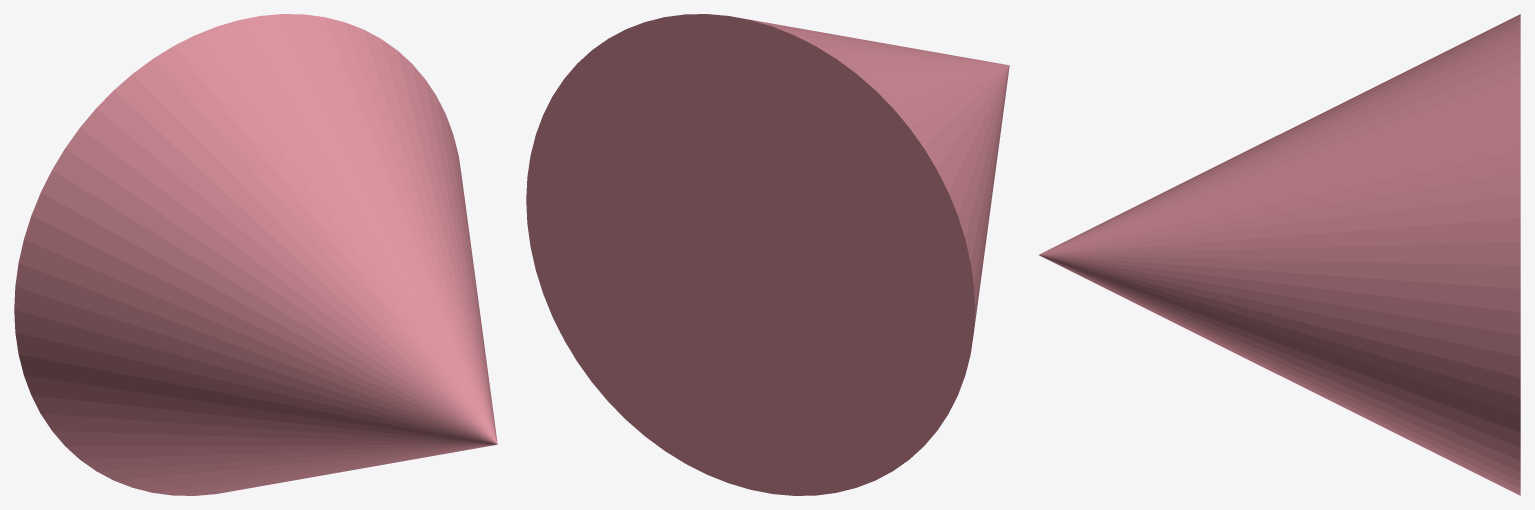
File: kerucut.glb
3 views of the same model, side by side, from view 1: azimuth 30°, elevation 25°; view 2: azimuth 150°, elevation 25°; view 3: azimuth 270°, elevation 25° (orthographic). The views are drawn at different scales.
Visible parts, largest first — view 1: world; view 2: world; view 3: world.
Part boxes in pixels (x1,y1,x2,y2): world: (14,14,497,495); world: (526,14,1009,495); world: (1039,14,1520,495).
Bounding box in the file's own units: 1 × 1 × 1.
